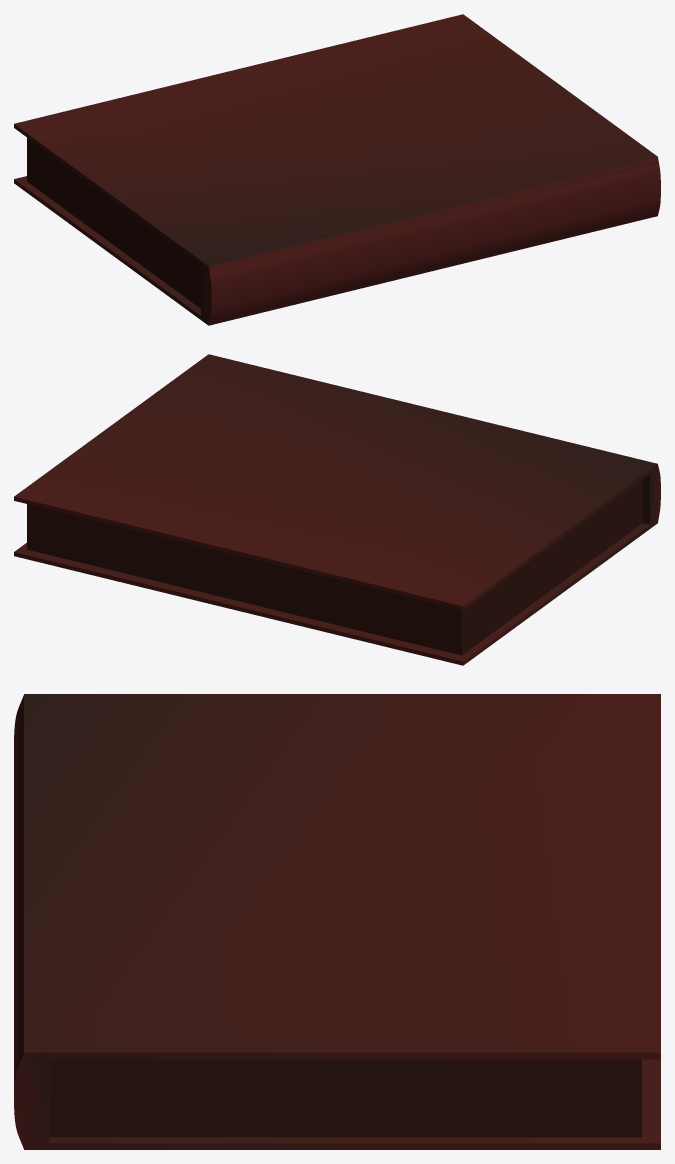
3 renders of one model, top to bottom at view 1: azimuth 30°, elevation 25°; view 2: azimuth 150°, elevation 25°; view 3: azimuth 270°, elevation 25°, orthographic. The views are drawn at different scales.
Parts seen in each view (by area): view 1: top_cover, rounded_spine, page_block, bottom_cover; view 2: top_cover, page_block, bottom_cover, rounded_spine; view 3: top_cover, page_block, bottom_cover, rounded_spine.
Boxes of the visible parts, <box> form: top_cover: <box>14,14,657,269</box>; rounded_spine: <box>201,157,660,325</box>; page_block: <box>27,138,200,308</box>; bottom_cover: <box>14,176,656,325</box>; top_cover: <box>14,354,657,610</box>; page_block: <box>27,479,642,655</box>; bottom_cover: <box>14,519,657,665</box>; rounded_spine: <box>643,465,660,524</box>; top_cover: <box>24,694,660,1059</box>; page_block: <box>49,1059,641,1137</box>; bottom_cover: <box>24,1059,660,1149</box>; rounded_spine: <box>14,695,49,1149</box>.
Bounding box in the file's own units: 0.25 × 0.0316 × 0.1906.
